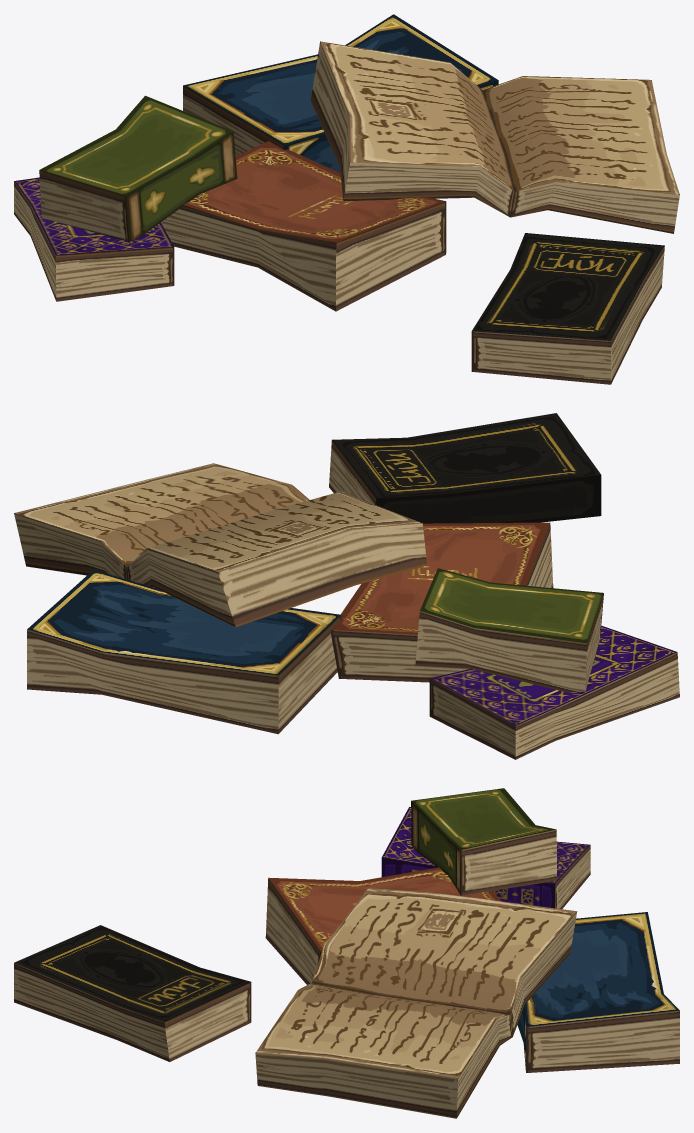
The model's file is SM_PROP_bookpile_dungeon_02.fbx.
The picture shows the model from 3 angles, top to bottom: view 1: azimuth 30°, elevation 25°; view 2: azimuth 150°, elevation 25°; view 3: azimuth 270°, elevation 25°; orthographic projection. The views are drawn at different scales.
Visible parts, largest first — view 1: SM_PROP_bookpile_dungeon_02; view 2: SM_PROP_bookpile_dungeon_02; view 3: SM_PROP_bookpile_dungeon_02.
Part boxes in pixels (box(x1,y1,x2,y2)): SM_PROP_bookpile_dungeon_02: box(14, 14, 679, 384); SM_PROP_bookpile_dungeon_02: box(14, 413, 679, 759); SM_PROP_bookpile_dungeon_02: box(14, 788, 679, 1118).
Size of the model in its own units: 89.73 by 15.26 by 91.68.
